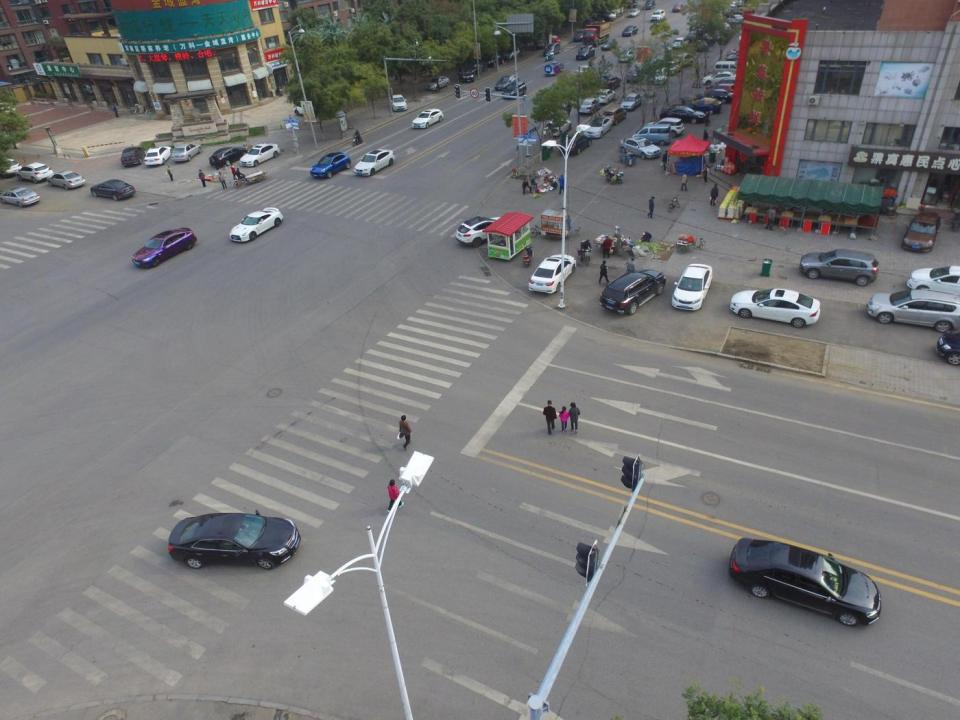car: (726, 537, 883, 628), (166, 512, 304, 568), (728, 286, 822, 328), (865, 289, 958, 327), (798, 246, 877, 286), (599, 270, 664, 317), (130, 225, 196, 269), (229, 207, 284, 244), (672, 264, 714, 310), (529, 254, 577, 293), (908, 263, 960, 297), (454, 214, 505, 248), (901, 212, 941, 255), (354, 148, 395, 180), (86, 178, 134, 203), (309, 150, 351, 178), (239, 142, 280, 169), (621, 134, 659, 160), (410, 108, 446, 132), (560, 132, 592, 158), (207, 148, 248, 168), (3, 186, 40, 208), (658, 107, 705, 124), (293, 97, 328, 119), (46, 170, 84, 190), (17, 164, 54, 183), (586, 115, 612, 141), (645, 119, 684, 136), (683, 97, 721, 114), (713, 78, 752, 92), (694, 90, 735, 103), (144, 147, 172, 166), (543, 118, 571, 137), (605, 104, 627, 128), (501, 79, 527, 99), (171, 144, 203, 160), (707, 84, 741, 99), (0, 158, 23, 180), (121, 147, 147, 166), (702, 73, 737, 86), (592, 88, 614, 106), (600, 74, 622, 92), (426, 74, 450, 90), (494, 74, 518, 90), (578, 98, 600, 115), (622, 93, 642, 111), (391, 94, 409, 112), (483, 52, 503, 68), (500, 45, 520, 60), (466, 61, 487, 75), (626, 67, 644, 83), (674, 54, 696, 67), (576, 45, 595, 60), (458, 67, 476, 82), (617, 49, 636, 63), (544, 62, 564, 75), (601, 37, 618, 52), (544, 42, 562, 56), (650, 9, 665, 23), (666, 61, 681, 75), (622, 24, 638, 37), (573, 29, 589, 42), (654, 68, 667, 84), (693, 39, 709, 52), (698, 32, 714, 45), (707, 30, 723, 43), (715, 21, 731, 34), (721, 17, 736, 30), (672, 38, 688, 50), (726, 13, 742, 25), (672, 3, 685, 13), (642, 0, 655, 10), (629, 7, 640, 18)
truck: (582, 20, 612, 48)
van: (633, 126, 671, 144), (713, 61, 743, 78)
